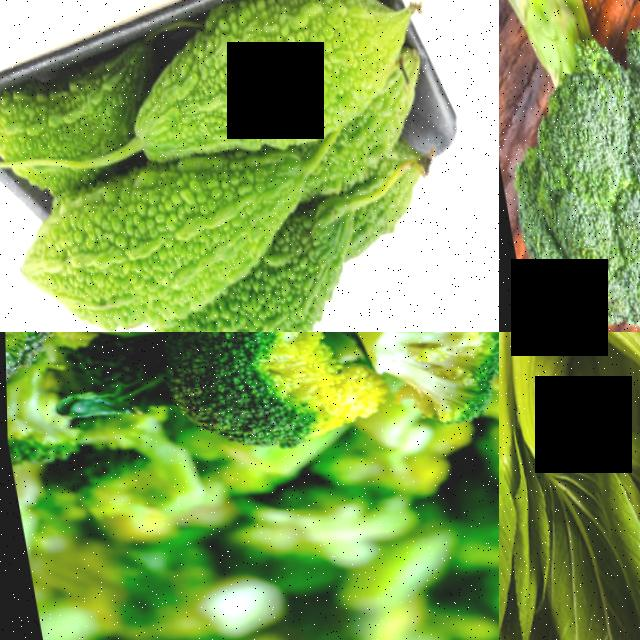bitter gourd: (1, 139, 286, 313), (144, 0, 369, 161), (155, 287, 311, 332)
bok choy: (499, 332, 592, 640), (527, 332, 640, 445)
broccoli: (499, 0, 640, 332), (134, 332, 389, 473), (349, 332, 499, 423)
